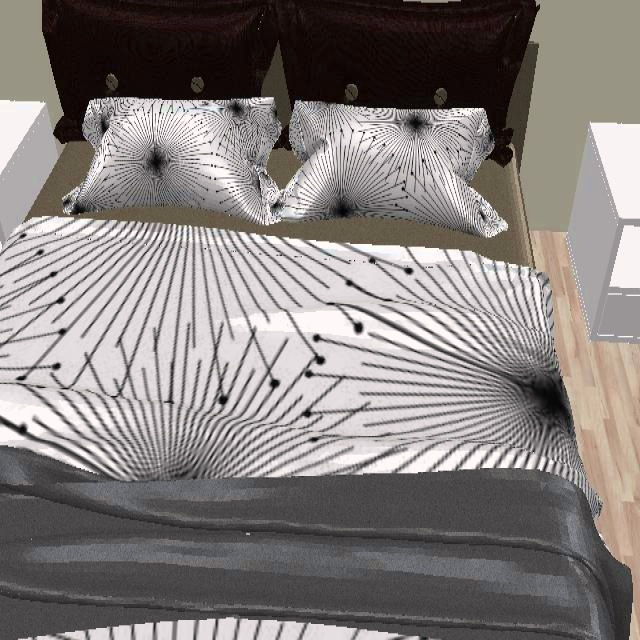bed: (0, 0, 631, 640)
nighttable: (572, 123, 640, 307), (0, 100, 67, 243)
